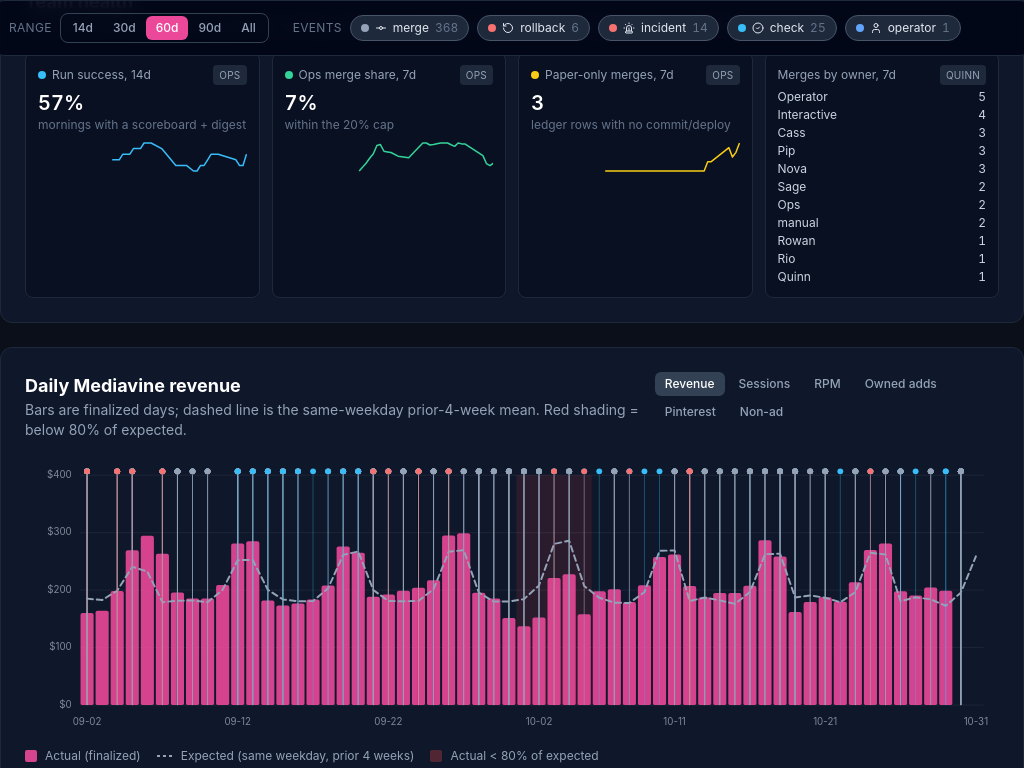
Test: /admin/funnel interactions › switches the explorer metric from the tabs
The image size is (1024, 768).
(page scrolled)
Click the tab "Sessions" at (764, 384), box [728,372,800,396]
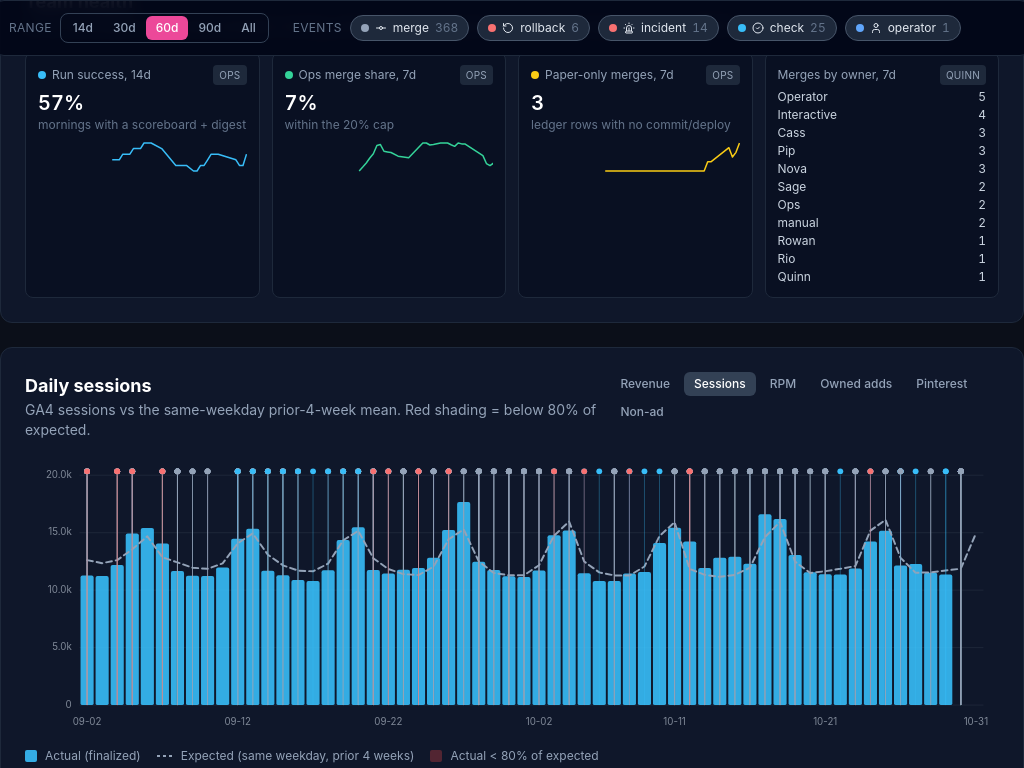
Check: the heading "Daily sessions" is shown, box [25,375,152,396]
Click the tab "RPM" at (783, 384), box [760,372,806,396]
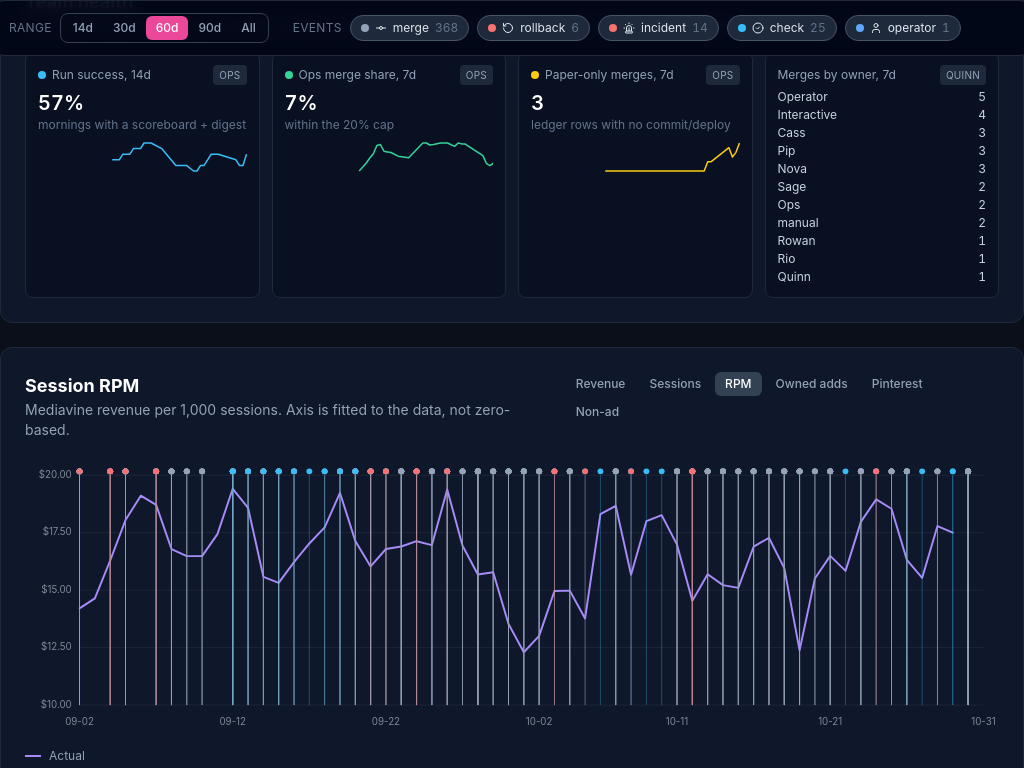
Check: the heading "Session RPM" is shown, box [25,375,139,396]
